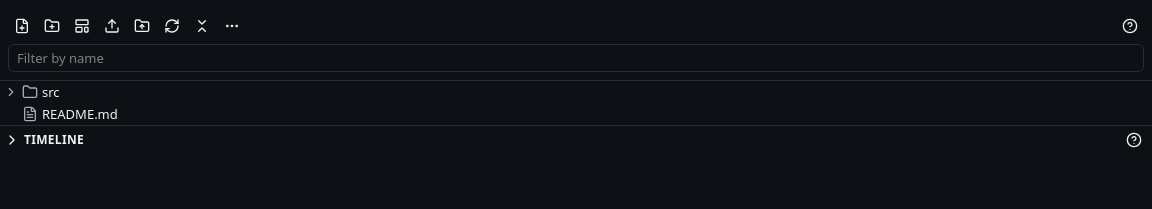
Test: a folder is read when it is opened — S-159 › asks for a level only on expand, and reads the cache when it is opened again
Click the list item "src" at (32, 92), box [4,83,60,101]
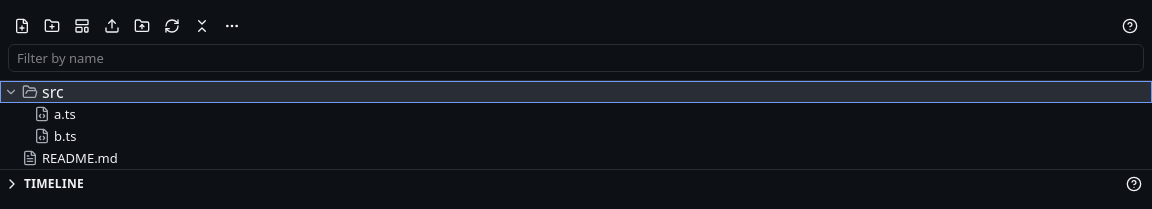
Result: the list item "a.ts" is shown at [34,105,76,123]
Result: the list item "src" is expanded
Click the list item "src" at (576, 92), box [0,81,1151,103]
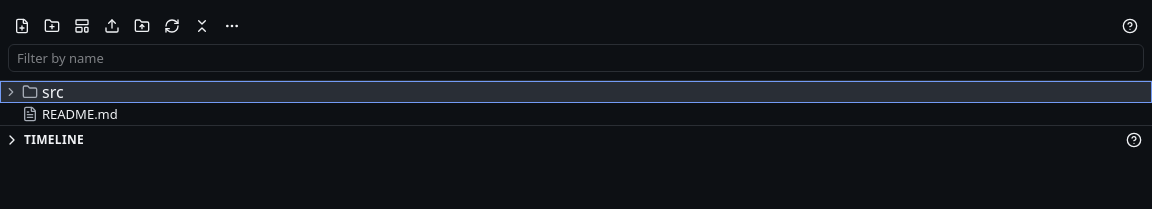
Result: the text "a.ts" is gone
Click the list item "src" at (576, 92), box [0,81,1151,103]
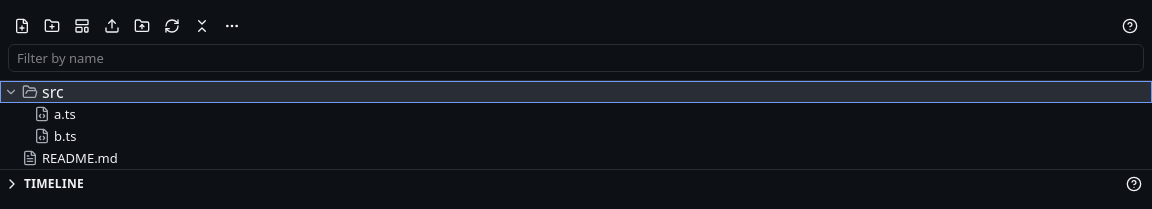
Result: the list item "a.ts" is shown at [34,105,76,123]
